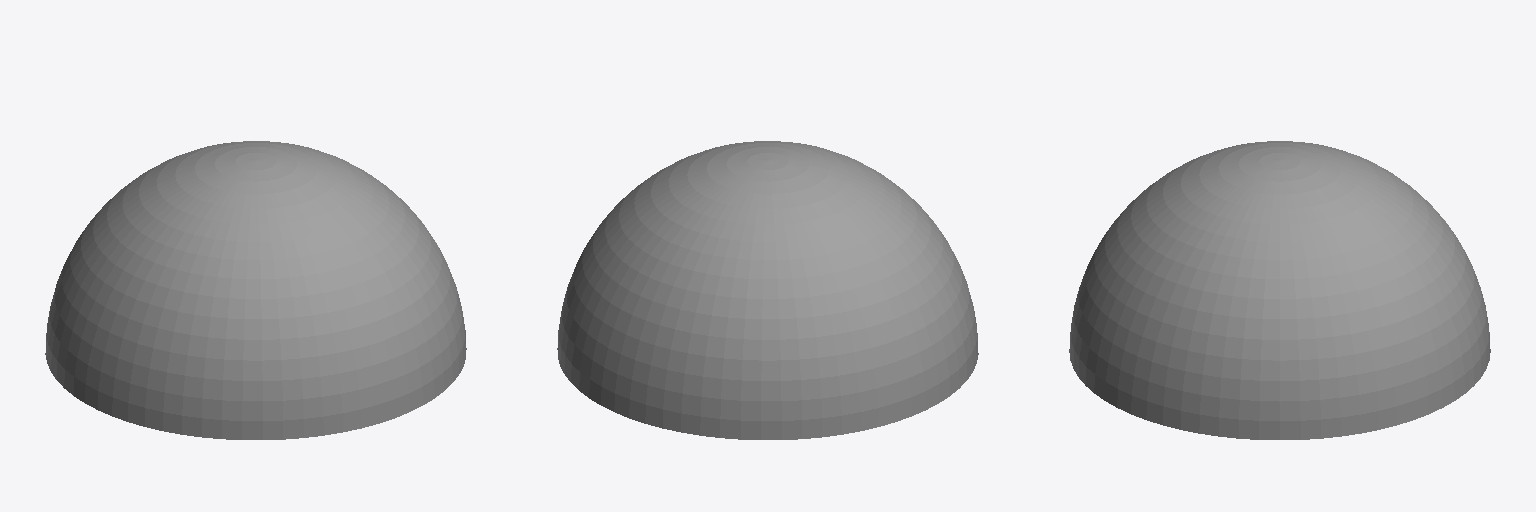
File: terrain.obj
The picture shows the model from 3 angles: view 1: azimuth 30°, elevation 25°; view 2: azimuth 150°, elevation 25°; view 3: azimuth 270°, elevation 25°; orthographic projection.
Parts seen in each view (by area): view 1: Sphere.002; view 2: Sphere.002; view 3: Sphere.002.
Part boxes in pixels (x1,y1,x2,y2): Sphere.002: (45, 141, 466, 439); Sphere.002: (557, 141, 978, 439); Sphere.002: (1069, 141, 1490, 439).
Size of the model in its own units: 97.36 by 48.68 by 97.36.